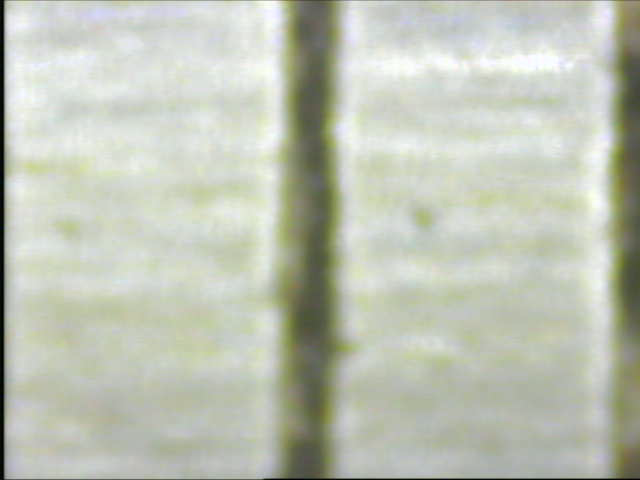line: (272, 1, 350, 471)
